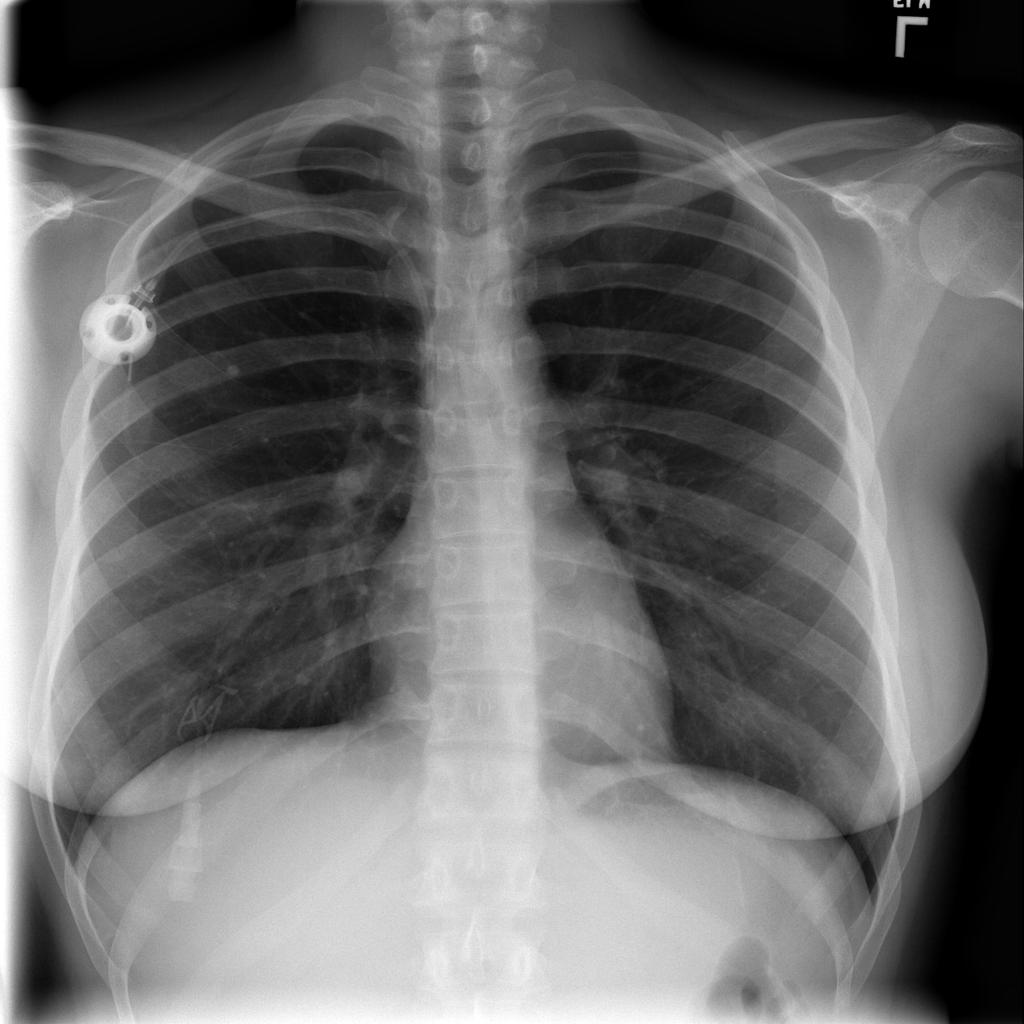nodule: (204, 348, 255, 397)
